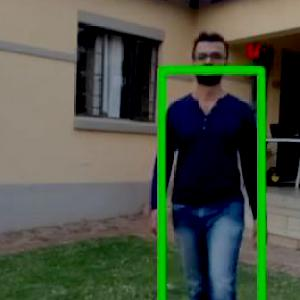follow: (150, 33, 268, 299)
